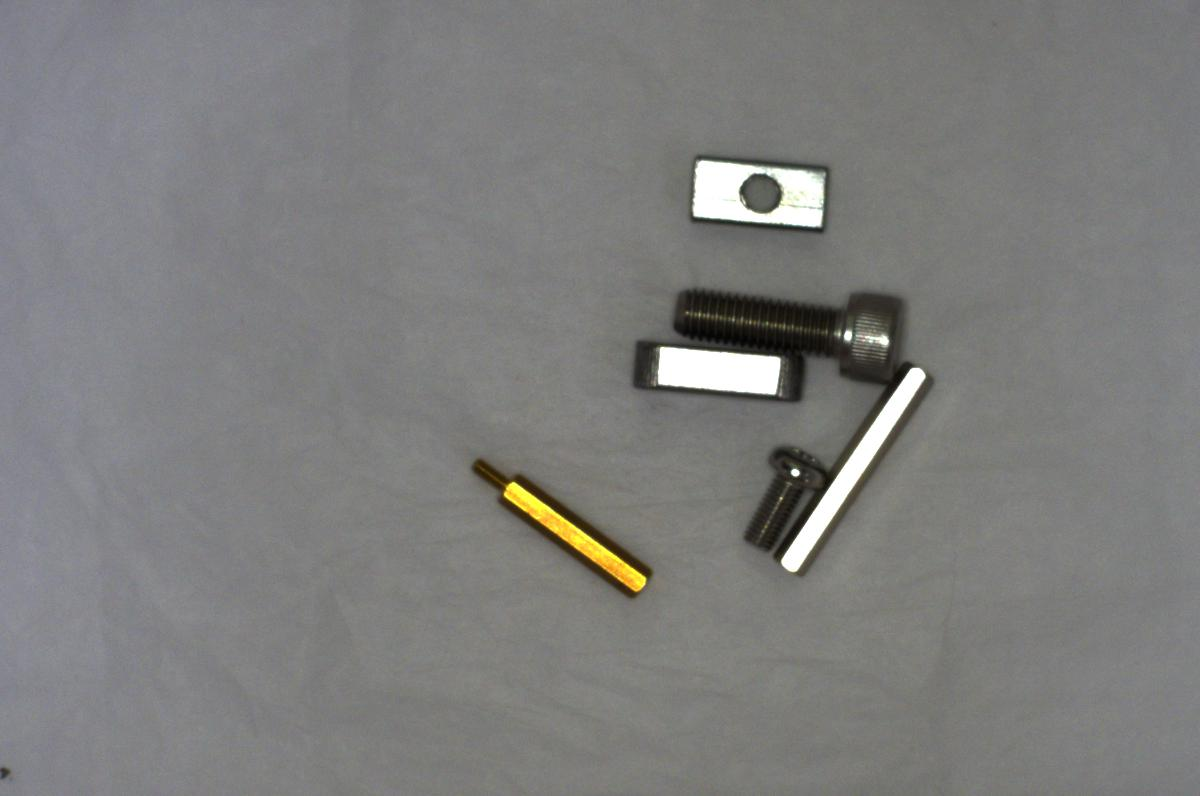Double hexagonal column: (761, 355, 941, 586)
Hexagon pillar: (458, 445, 661, 601)
Hexagon screw: (667, 265, 914, 391)
Keybar: (619, 322, 810, 409)
Rectangular nut: (676, 144, 839, 241)
Round head screw: (732, 441, 839, 560)
